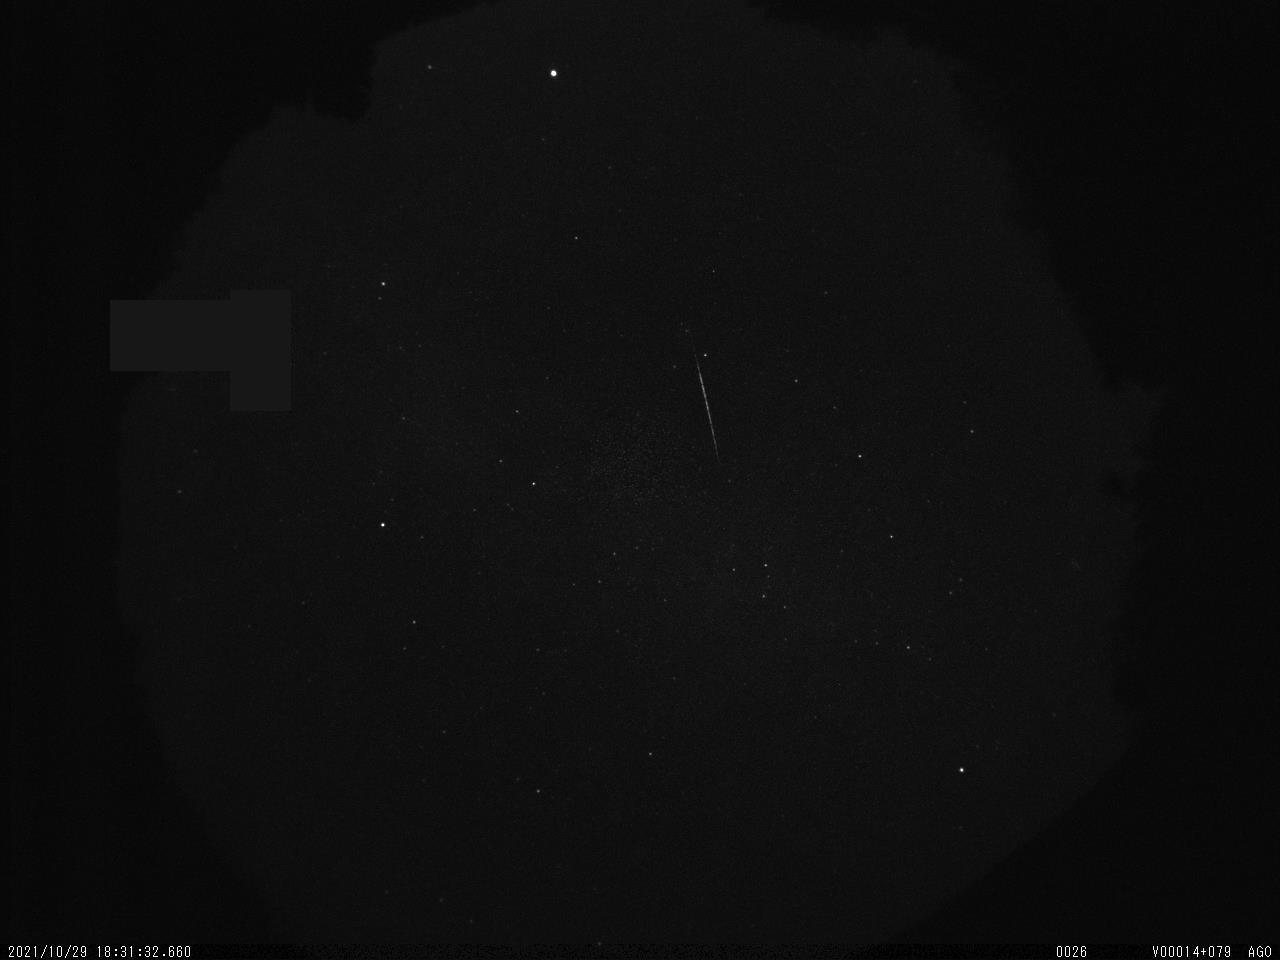meteor: (663, 339, 745, 471)
